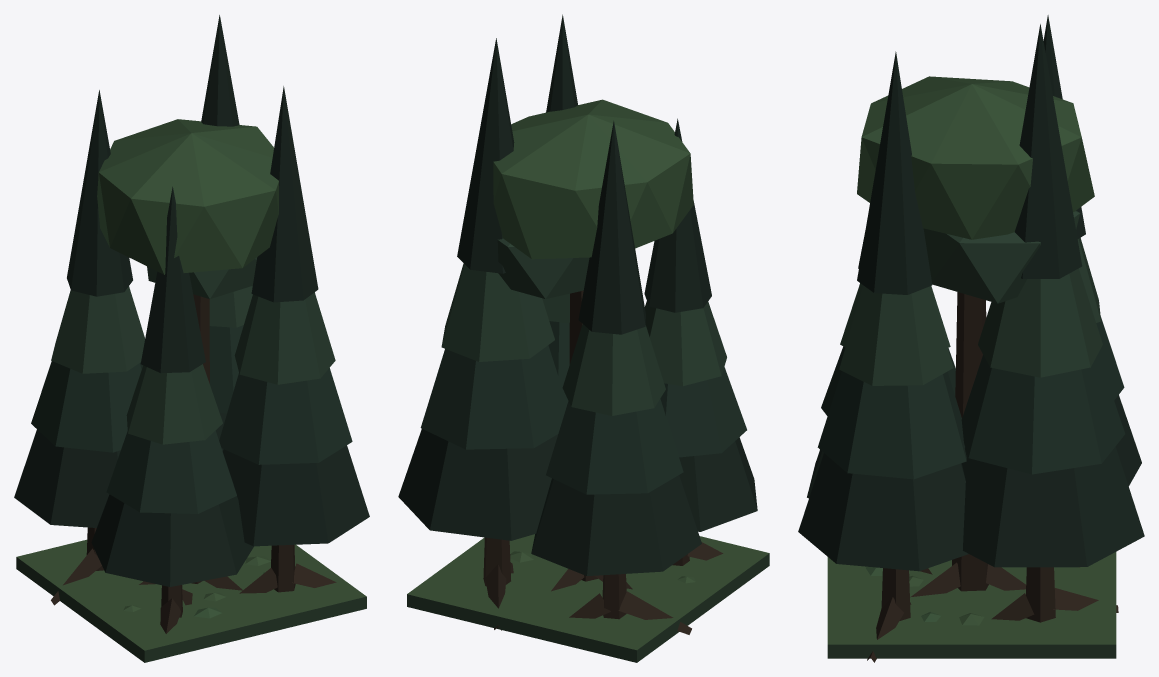
File: forest_2.glb
3 renders of one model, left to right at view 1: azimuth 30°, elevation 25°; view 2: azimuth 150°, elevation 25°; view 3: azimuth 270°, elevation 25°, orthographic. The views are drawn at different scales.
Parts seen in each view (by area): view 1: forest_2; view 2: forest_2; view 3: forest_2.
Part boxes in pixels (left/top/right/bottom): forest_2: left=14, top=15, right=369, bottom=662; forest_2: left=398, top=14, right=769, bottom=662; forest_2: left=798, top=15, right=1144, bottom=662.
Size of the model in its own units: 2.21 by 4.42 by 2.28.
